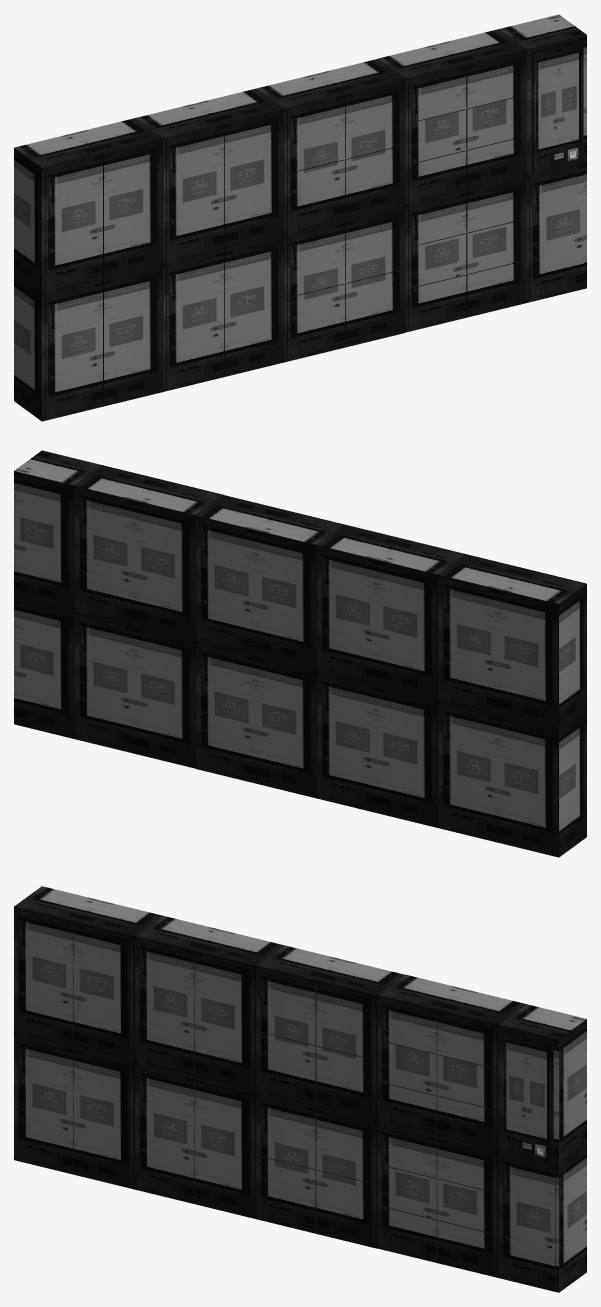
File: LuggageLocker.fbx
3 views of the same model, one above another, from view 1: azimuth 30°, elevation 25°; view 2: azimuth 150°, elevation 25°; view 3: azimuth 330°, elevation 25° (orthographic).
Visible parts, largest first — view 1: Geom3D_.006, Geom3D_.004, Geom3D_.005, Geom3D_.007, Geom3D_, Geom3D.002, Geom3D; view 2: Geom3D_.006, Geom3D_.004, Geom3D_.005, Geom3D_.007, Geom3D_; view 3: Geom3D_.004, Geom3D_.007, Geom3D_.005, Geom3D_.006, Geom3D_, Geom3D.002, Geom3D.
Part boxes in pixels (x1=…): Geom3D_.006: x1=14, y1=118, x2=162, y2=421; Geom3D_.004: x1=377, y1=29, x2=526, y2=332; Geom3D_.005: x1=256, y1=59, x2=405, y2=362; Geom3D_.007: x1=135, y1=88, x2=284, y2=391; Geom3D_: x1=498, y1=14, x2=586, y2=302; Geom3D.002: x1=538, y1=52, x2=578, y2=149; Geom3D: x1=532, y1=40, x2=583, y2=174; Geom3D_.006: x1=438, y1=554, x2=586, y2=857; Geom3D_.004: x1=74, y1=465, x2=223, y2=768; Geom3D_.005: x1=195, y1=495, x2=344, y2=798; Geom3D_.007: x1=316, y1=524, x2=465, y2=827; Geom3D_: x1=14, y1=450, x2=102, y2=738; Geom3D_.004: x1=377, y1=974, x2=525, y2=1277; Geom3D_.007: x1=135, y1=915, x2=283, y2=1218; Geom3D_.005: x1=256, y1=945, x2=404, y2=1248; Geom3D_.006: x1=14, y1=886, x2=162, y2=1189; Geom3D_: x1=498, y1=1004, x2=586, y2=1292; Geom3D.002: x1=506, y1=1042, x2=546, y2=1139; Geom3D: x1=502, y1=1030, x2=553, y2=1164.
Bounding box in the file's own units: 450 × 200 × 43.47.
Materials: 10 (5 with a texture image).
